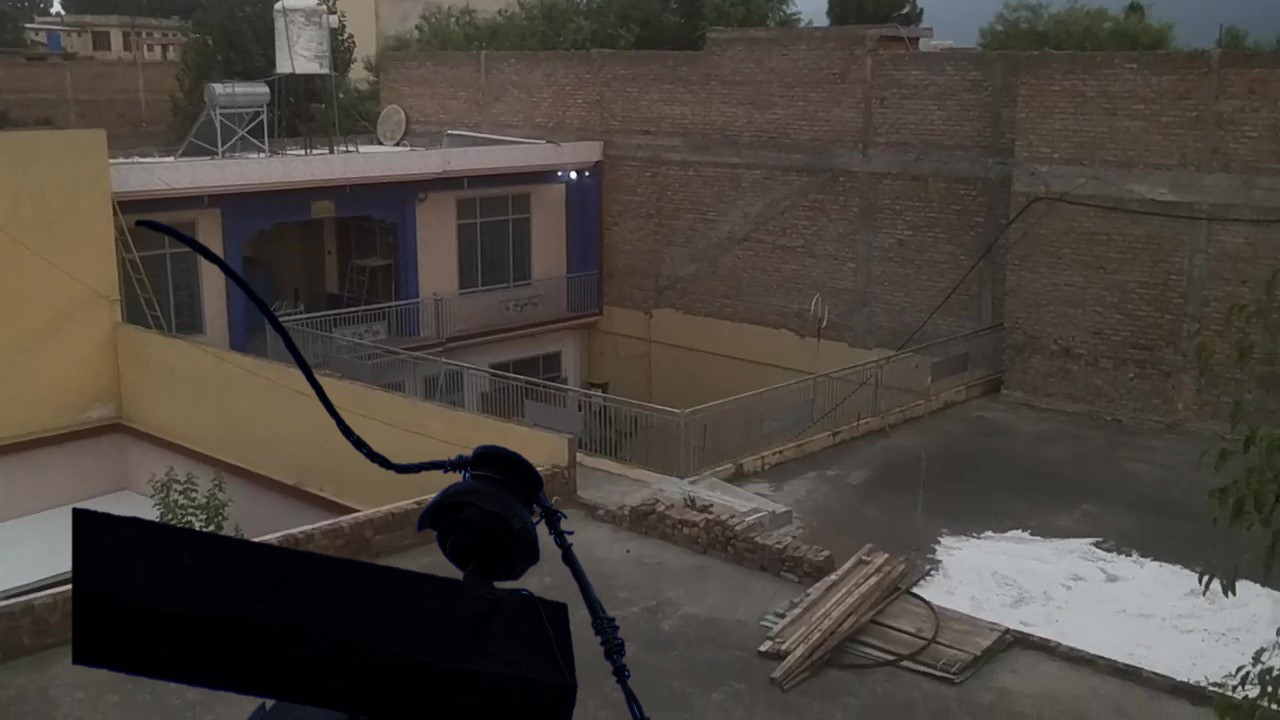defect_pin: (413, 429, 551, 589)
